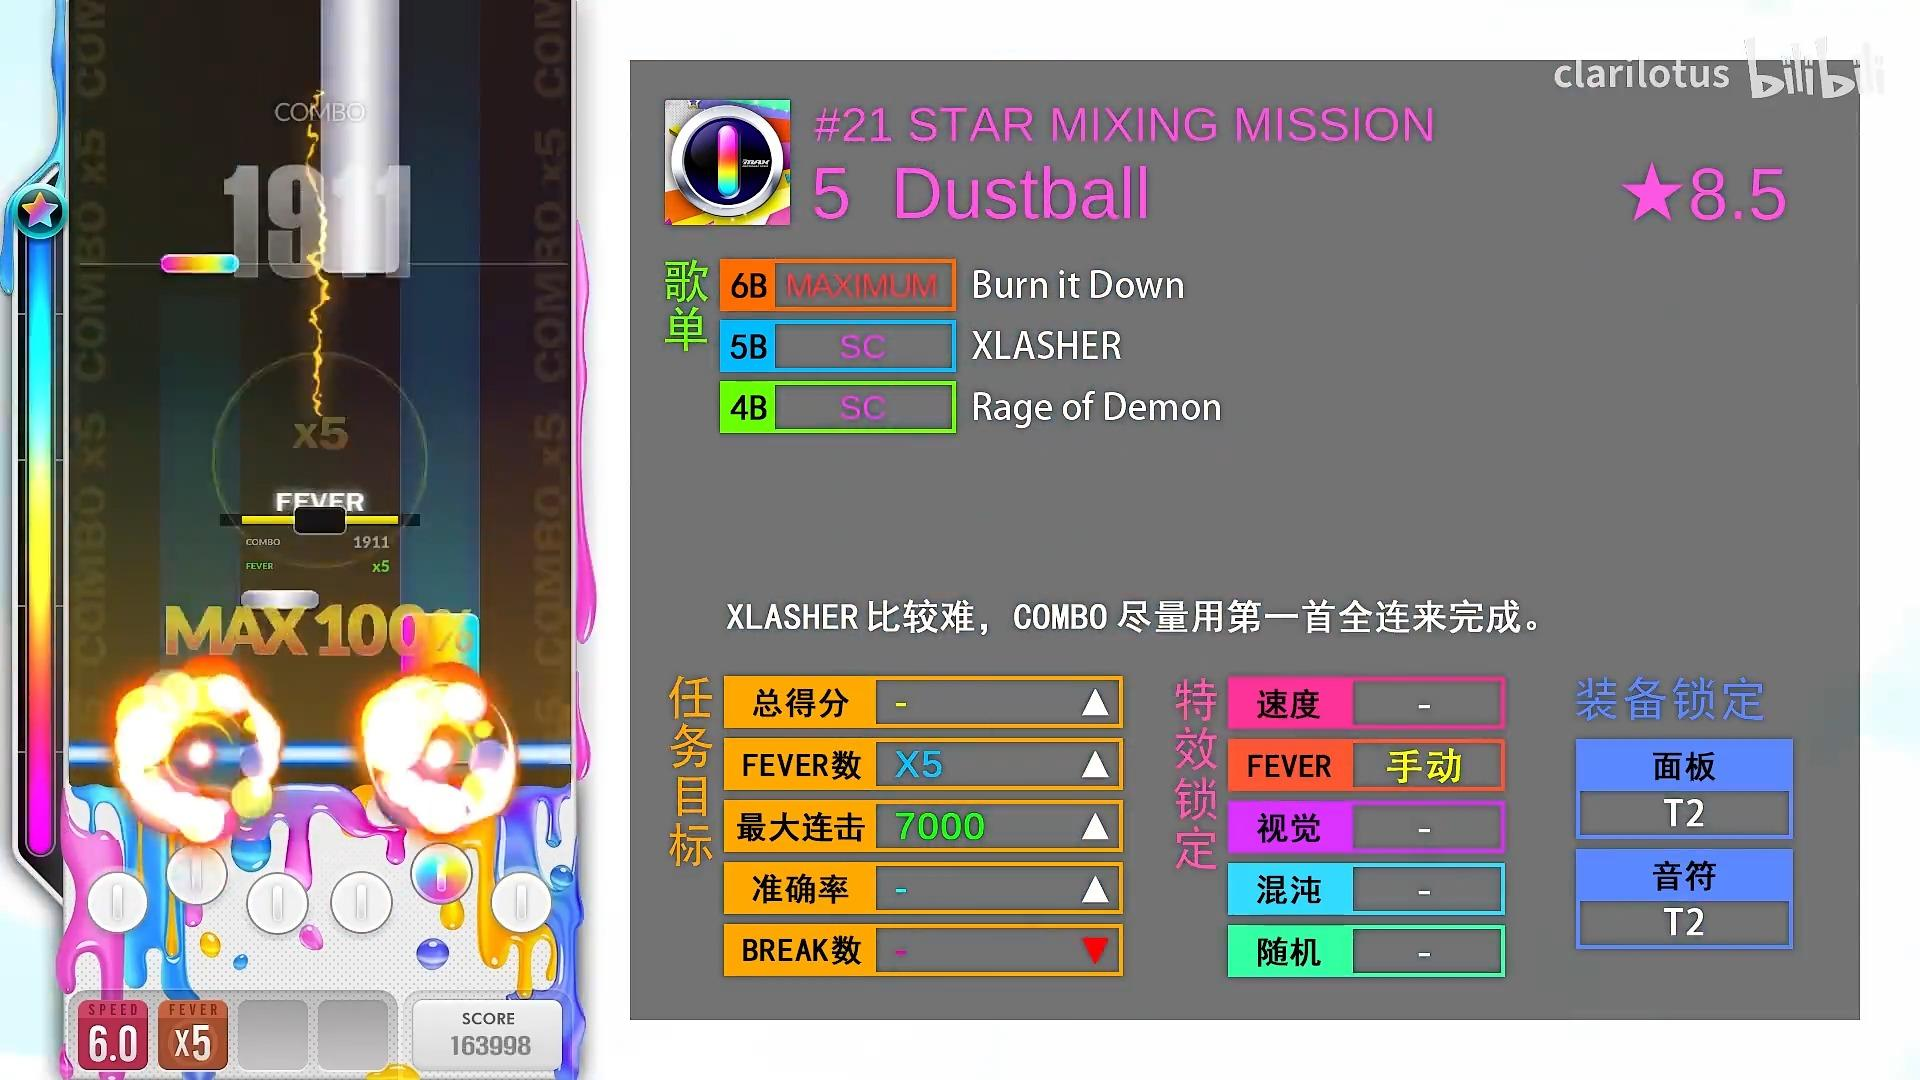hold-end: (400, 613, 480, 632)
hold-start: (320, 256, 398, 274)
note: (161, 255, 240, 274), (241, 589, 318, 609)
